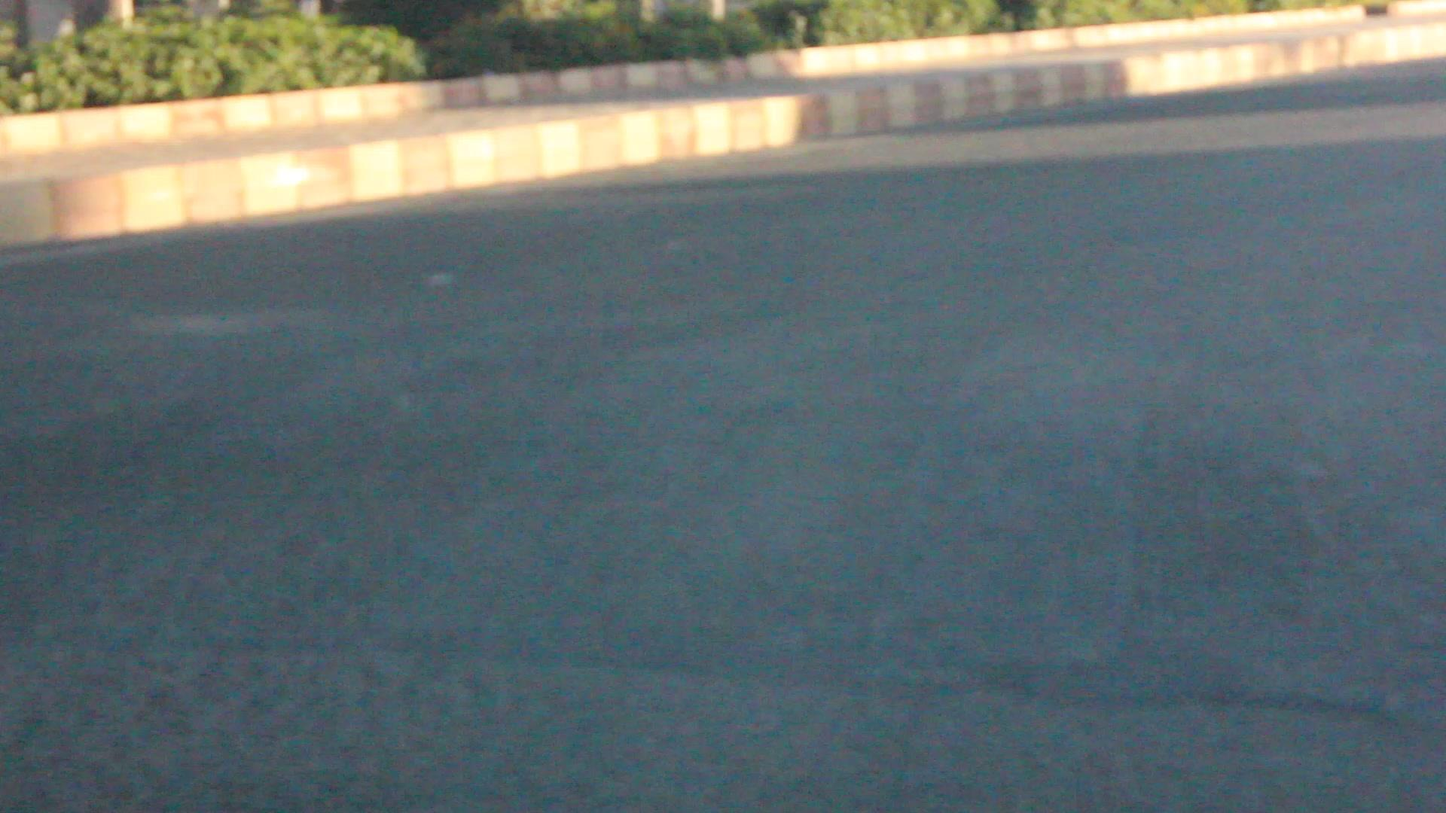Bump: (8, 292, 1446, 651)
